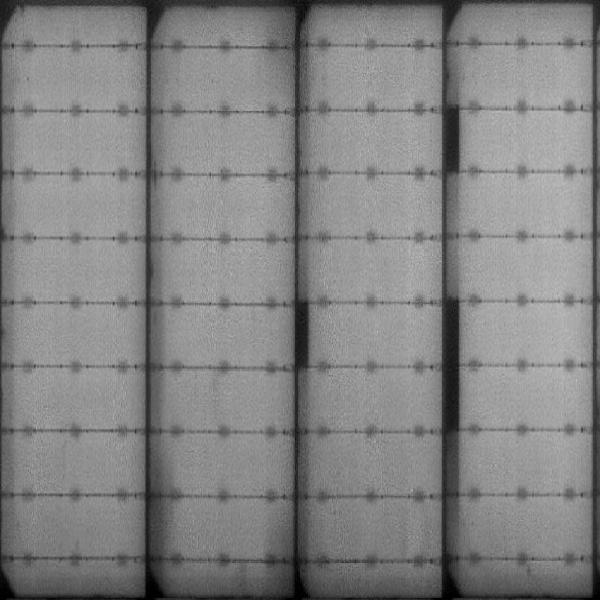black_border: (436, 292, 468, 509), (286, 295, 314, 373), (437, 100, 463, 174)
